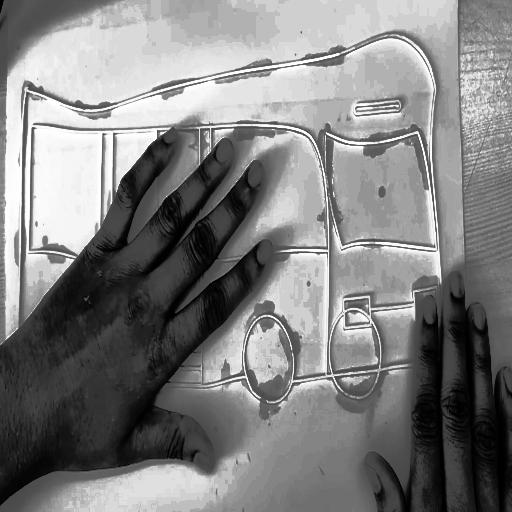bus: (12, 17, 457, 417)
